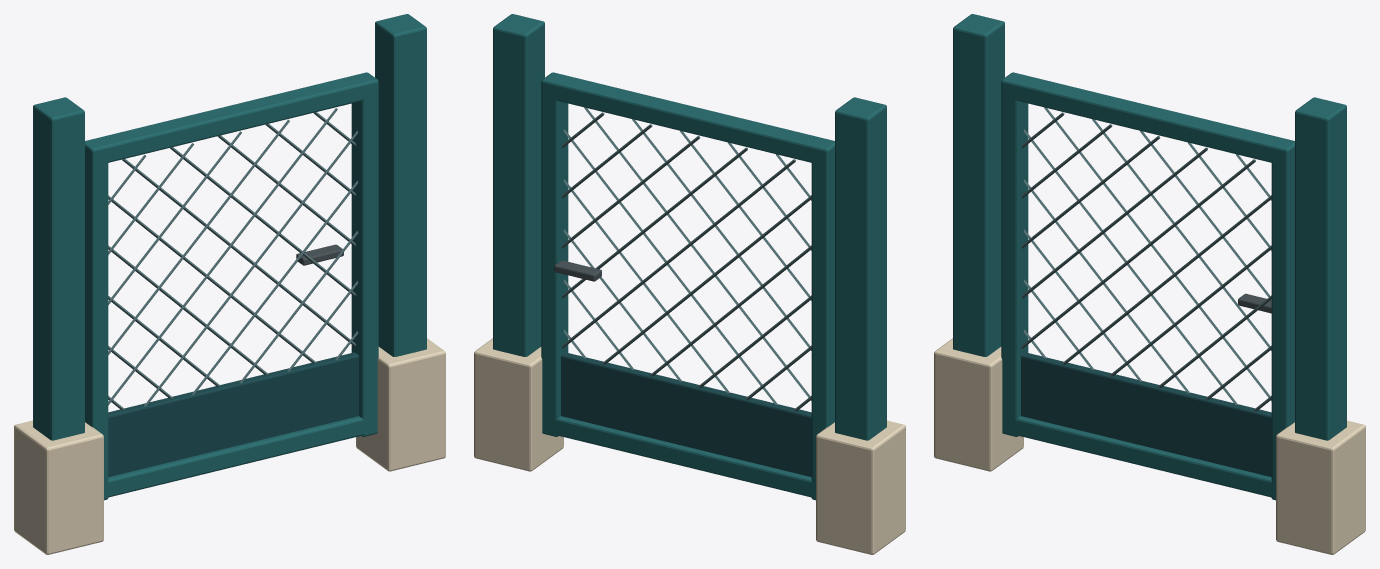
Rendered from pedestrian-gate-2m.glb.
The picture shows the model from 3 angles, left to right: view 1: azimuth 30°, elevation 25°; view 2: azimuth 150°, elevation 25°; view 3: azimuth 330°, elevation 25°; orthographic projection.
Visible parts, largest first — view 1: pedestrian-gate-2m-frame-timber-teal, pedestrian-gate-hinge-gate-leaf-timber-teal, pedestrian-gate-2m-frame-timber-cream, pedestrian-gate-hinge-gate-leaf-timber-teal-dark, pedestrian-gate-hinge-gate-leaf-timber-wire, pedestrian-gate-hinge-gate-leaf-timber-metal; view 2: pedestrian-gate-2m-frame-timber-teal, pedestrian-gate-hinge-gate-leaf-timber-teal, pedestrian-gate-2m-frame-timber-cream, pedestrian-gate-hinge-gate-leaf-timber-teal-dark, pedestrian-gate-hinge-gate-leaf-timber-wire, pedestrian-gate-hinge-gate-leaf-timber-metal; view 3: pedestrian-gate-2m-frame-timber-teal, pedestrian-gate-hinge-gate-leaf-timber-teal, pedestrian-gate-2m-frame-timber-cream, pedestrian-gate-hinge-gate-leaf-timber-teal-dark, pedestrian-gate-hinge-gate-leaf-timber-wire.
Boxes of the visible parts, box(x1,y1,x2,y2) form: pedestrian-gate-2m-frame-timber-teal: box(33, 14, 426, 440); pedestrian-gate-hinge-gate-leaf-timber-teal: box(85, 72, 378, 500); pedestrian-gate-2m-frame-timber-cream: box(14, 338, 445, 554); pedestrian-gate-hinge-gate-leaf-timber-teal-dark: box(108, 352, 358, 476); pedestrian-gate-hinge-gate-leaf-timber-wire: box(108, 108, 358, 409); pedestrian-gate-hinge-gate-leaf-timber-metal: box(296, 244, 343, 265); pedestrian-gate-2m-frame-timber-teal: box(493, 14, 886, 440); pedestrian-gate-hinge-gate-leaf-timber-teal: box(541, 72, 834, 500); pedestrian-gate-2m-frame-timber-cream: box(474, 338, 905, 554); pedestrian-gate-hinge-gate-leaf-timber-teal-dark: box(561, 352, 811, 476); pedestrian-gate-hinge-gate-leaf-timber-wire: box(561, 107, 811, 411); pedestrian-gate-hinge-gate-leaf-timber-metal: box(554, 260, 601, 281); pedestrian-gate-2m-frame-timber-teal: box(953, 14, 1346, 440); pedestrian-gate-hinge-gate-leaf-timber-teal: box(1001, 72, 1294, 500); pedestrian-gate-2m-frame-timber-cream: box(934, 338, 1365, 554); pedestrian-gate-hinge-gate-leaf-timber-teal-dark: box(1021, 352, 1271, 476); pedestrian-gate-hinge-gate-leaf-timber-wire: box(1021, 107, 1271, 411).
Size of the model in its own units: 2.34 by 2.4 by 0.34.
